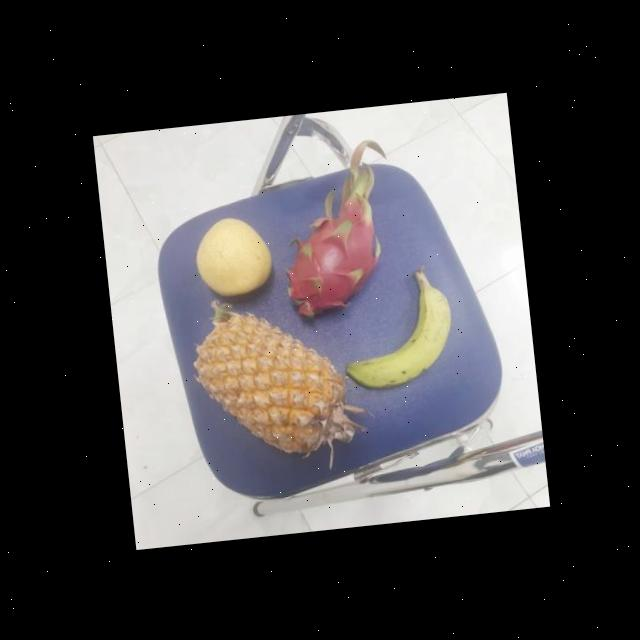banana: (338, 267, 460, 392)
pear: (189, 212, 277, 298)
pineapple: (195, 296, 358, 460)
pitaya: (278, 204, 392, 321)
